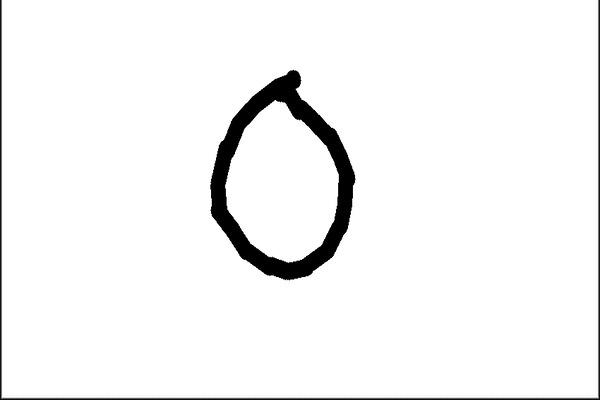O: (186, 61, 379, 288)
